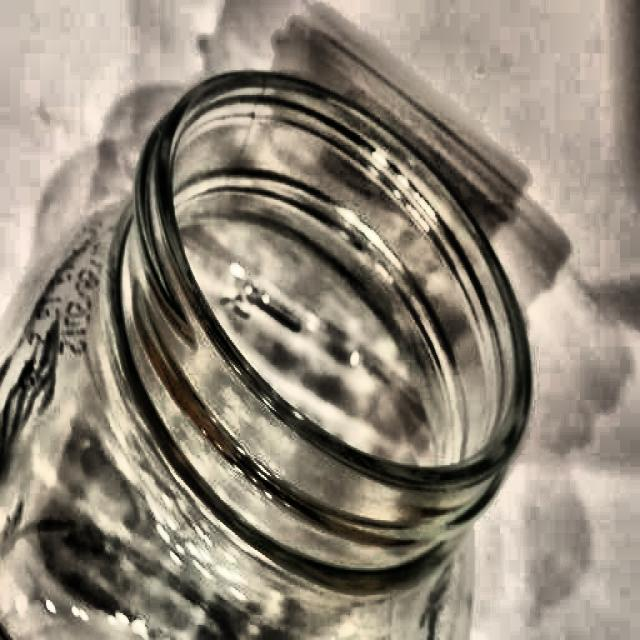glass: (2, 75, 531, 638)
